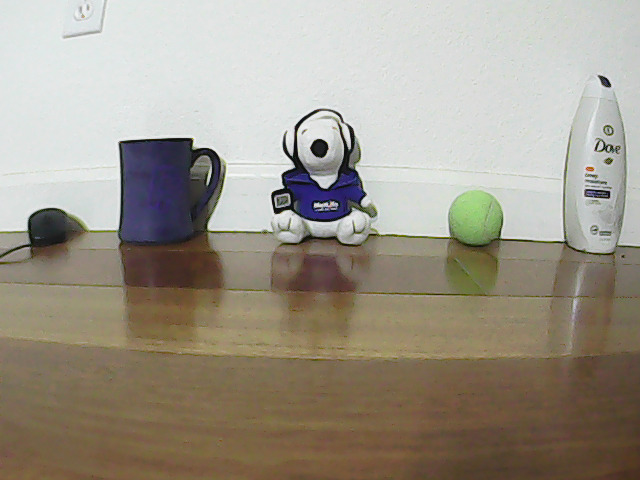ball: (442, 188, 510, 251)
mouse: (17, 187, 72, 250)
mug: (113, 135, 223, 248)
snoopy: (270, 109, 374, 246)
soap: (567, 67, 627, 254)
